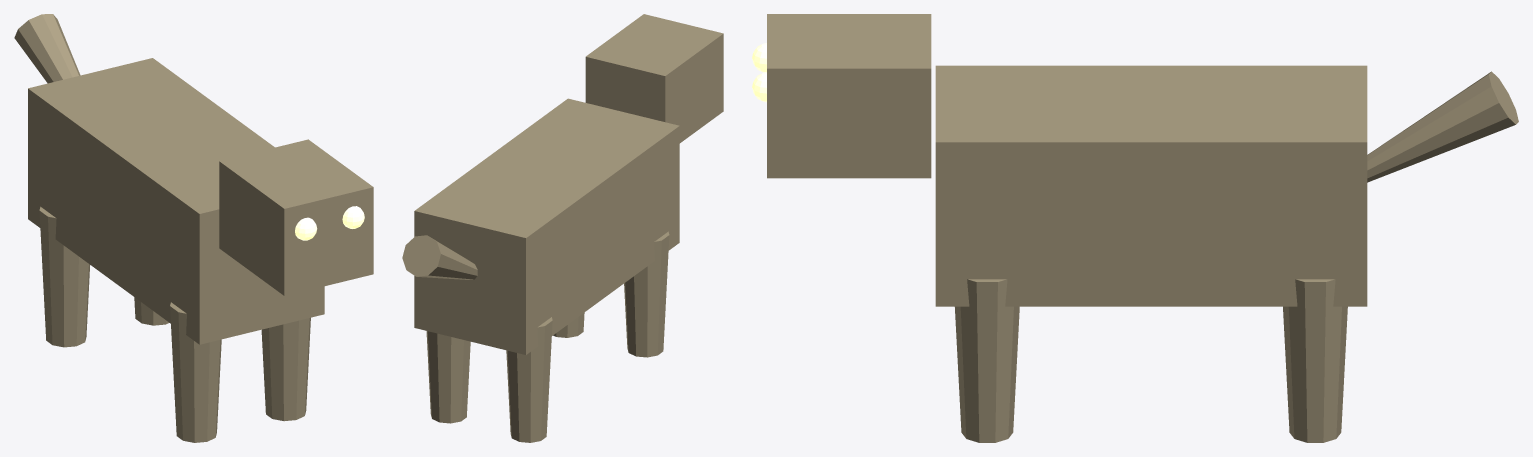
3 views of the same model, side by side, from view 1: azimuth 30°, elevation 25°; view 2: azimuth 150°, elevation 25°; view 3: azimuth 270°, elevation 25° (orthographic). The views are drawn at different scales.
Visible parts, largest first — view 1: trunk, head, legFRm, legBRm, legFLm, tail, legBLm, eye, eye.001; view 2: trunk, head, legBRm, legFRm, legBLm, tail, legFLm; view 3: trunk, head, legBLm, legFLm, tail.
Part boxes in pixels (box(x1,y1,x2,y2)): trunk: box(28, 58, 324, 344); head: box(219, 139, 373, 295); legFRm: box(170, 302, 221, 442); legBRm: box(39, 206, 89, 347); legFLm: box(261, 317, 310, 421); tail: box(14, 14, 80, 83); legBLm: box(134, 297, 169, 325); eye: box(295, 217, 317, 240); eye.001: box(342, 206, 364, 228); trunk: box(414, 98, 679, 354); head: box(585, 14, 723, 143); legBRm: box(506, 317, 552, 442); legFRm: box(624, 231, 669, 357); legBLm: box(426, 331, 470, 423); tail: box(402, 235, 477, 279); legFLm: box(553, 312, 584, 337); trunk: box(935, 65, 1367, 306); head: box(767, 14, 931, 178); legBLm: box(1283, 279, 1347, 442); legFLm: box(955, 279, 1019, 442); tail: box(1367, 71, 1518, 182).
Bounding box in the file's own units: 0.633 × 1.3 × 2.49.
